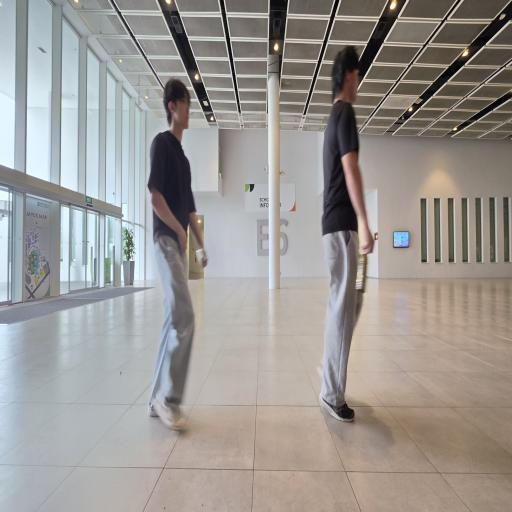person_right: (306, 27, 378, 431), (134, 68, 206, 431)
